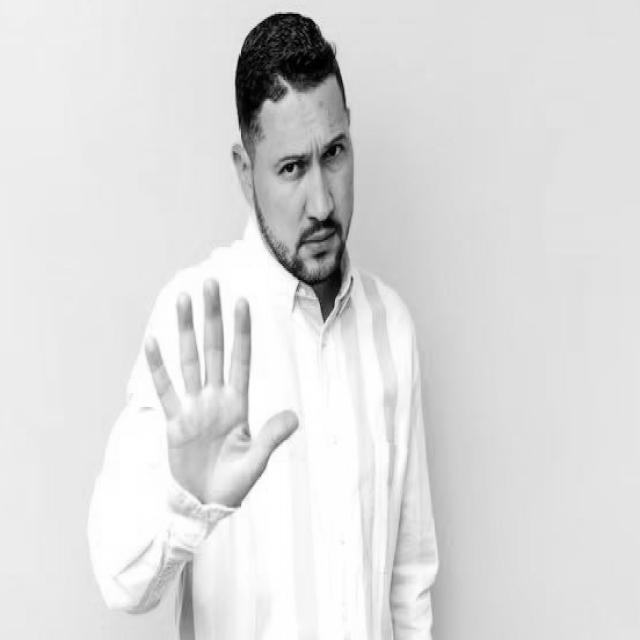stop: (139, 269, 303, 518)
